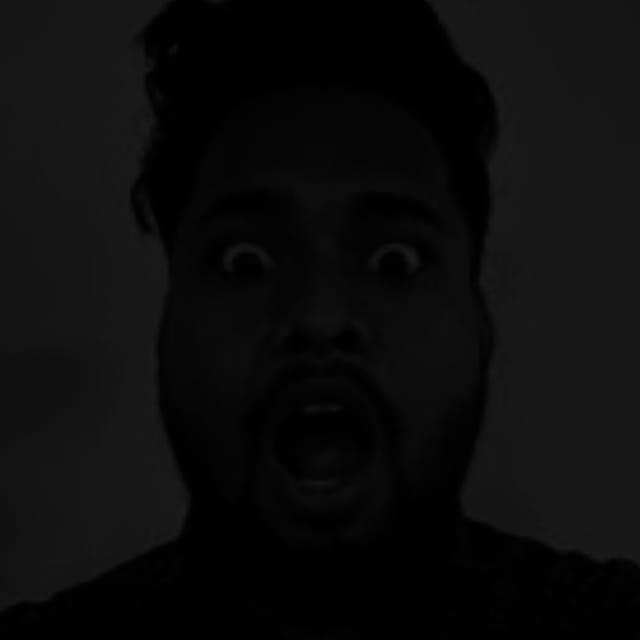Surprised: (90, 145, 561, 588)
